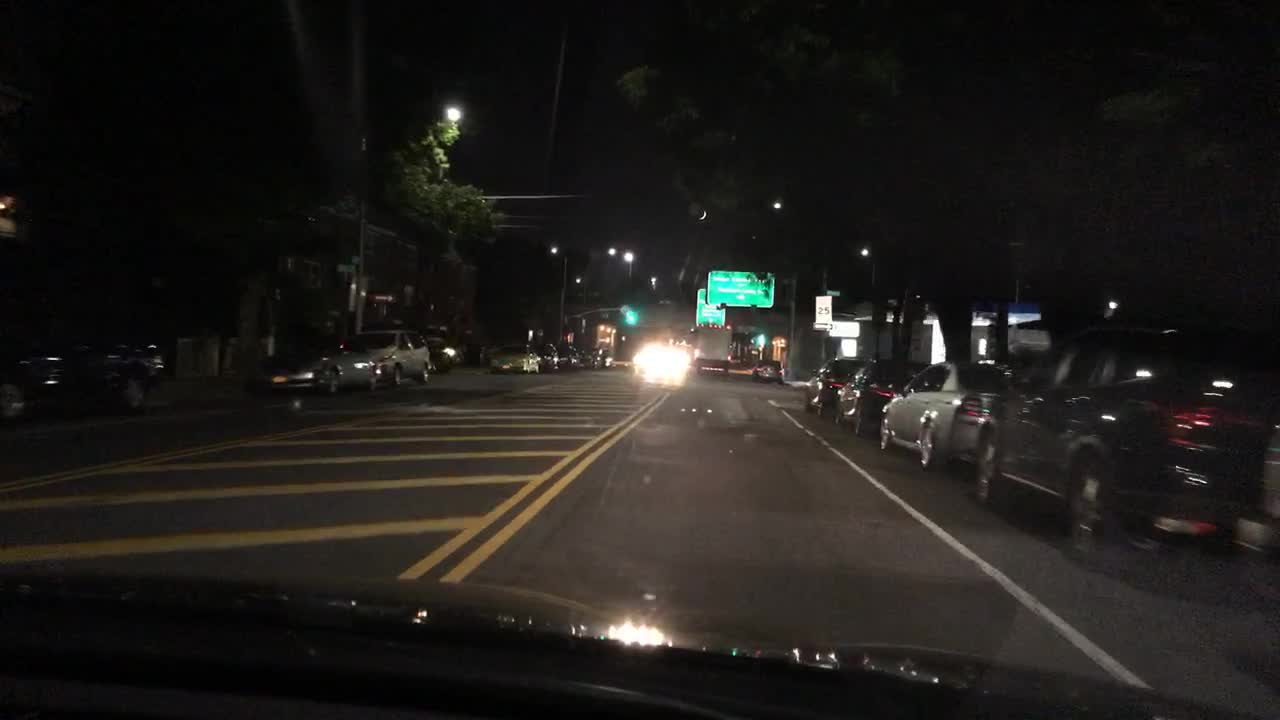car: (975, 324, 1277, 576), (0, 323, 162, 419), (879, 361, 1006, 469), (838, 359, 922, 446), (252, 335, 376, 393), (365, 330, 432, 386), (803, 358, 865, 416), (490, 346, 544, 375), (648, 348, 686, 380), (430, 339, 454, 369), (536, 341, 558, 371), (754, 361, 783, 381), (556, 345, 581, 368), (586, 348, 605, 370)
traffic light: (756, 331, 766, 348), (625, 311, 636, 323)
traffic sign: (706, 269, 771, 306), (696, 288, 724, 326), (814, 295, 831, 324), (373, 293, 393, 301), (816, 323, 831, 330), (826, 290, 843, 296)
truck: (691, 325, 729, 371)
